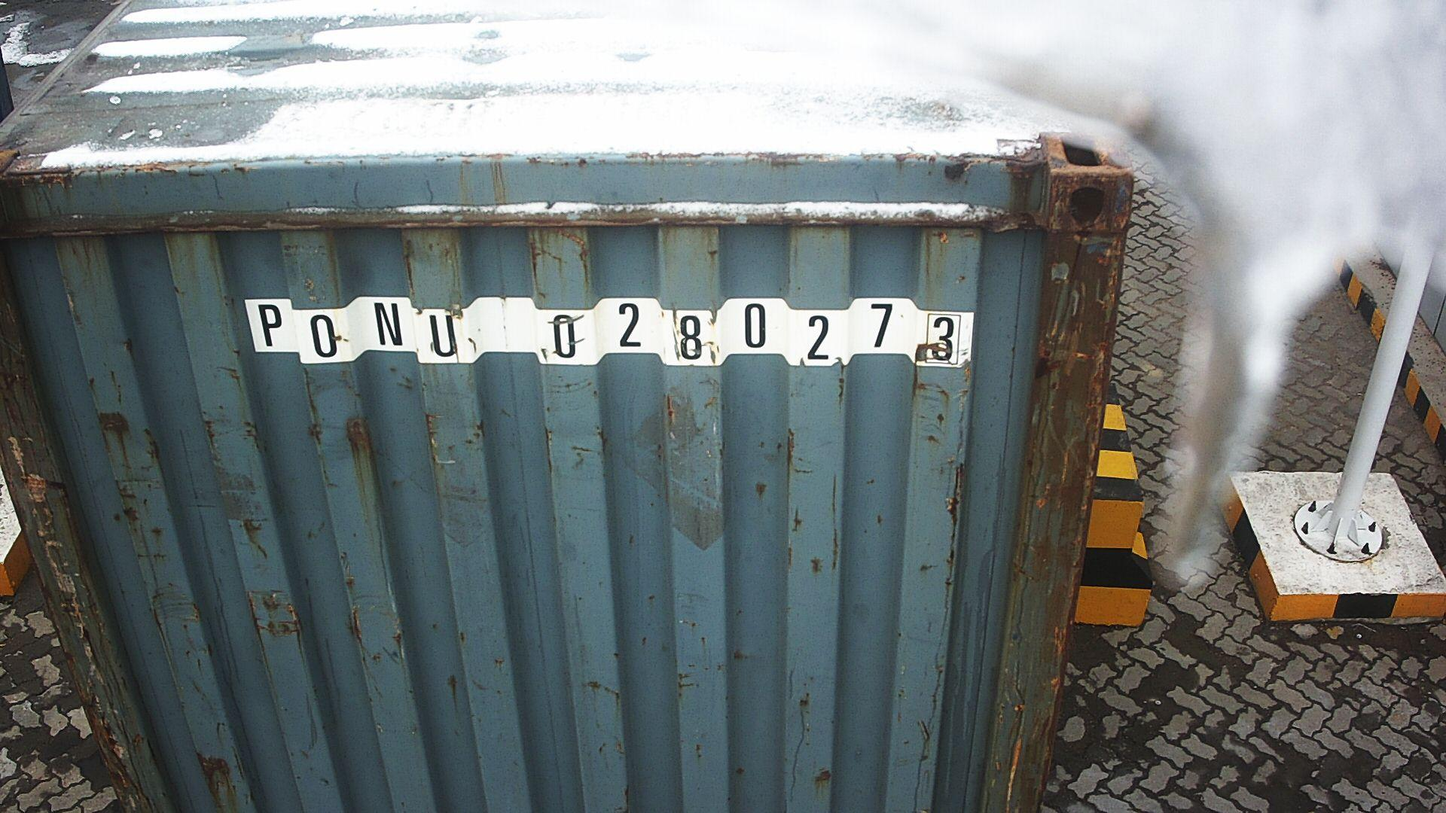container-numbers: (241, 297, 973, 368)
